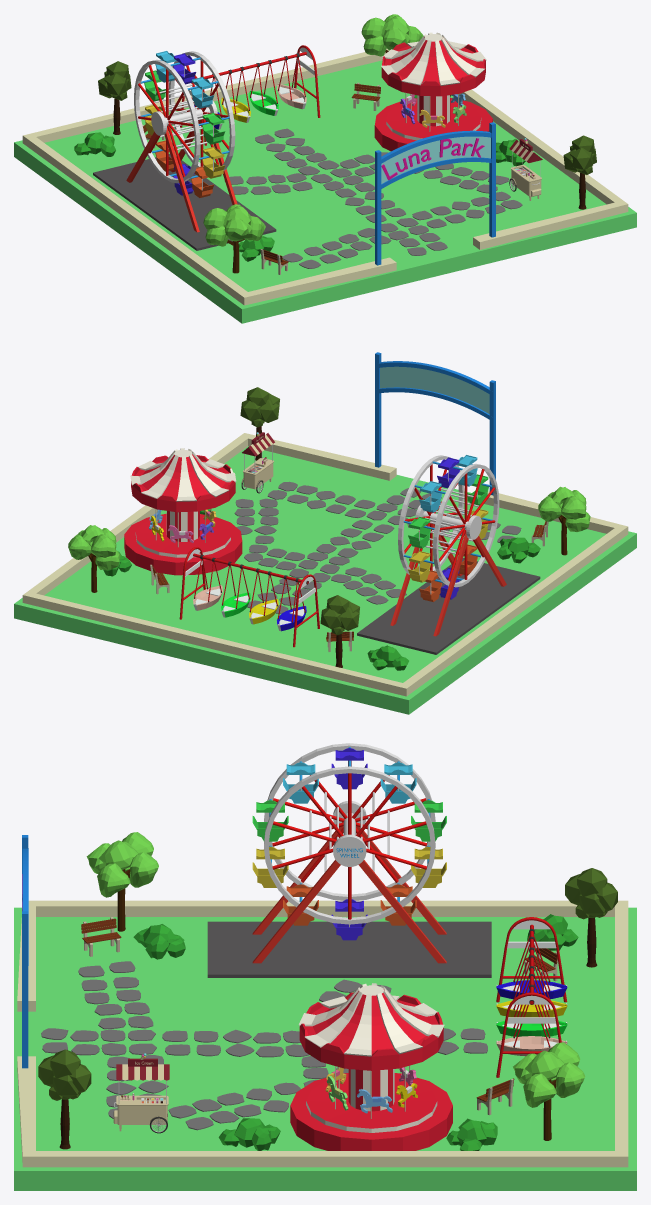
The model's file is asset4.glb.
The picture shows the model from 3 angles, top to bottom: view 1: azimuth 30°, elevation 25°; view 2: azimuth 150°, elevation 25°; view 3: azimuth 270°, elevation 25°; orthographic projection. The views are drawn at different scales.
Visible parts, largest first — view 1: Ground.Scene, SpinningWheel, Wall, Rocks, Carousel, Sign, LunaParkBoats, BigTree02, Bush, BigTree01, Smalltree01, SmallTree02 (+3 smaller); view 2: Ground.Scene, SpinningWheel, Wall, Carousel, Rocks, Sign, LunaParkBoats, Bush, BigTree02, BigTree01, SmallTree02, Smalltree01 (+1 smaller); view 3: Ground.Scene, SpinningWheel, Wall, Carousel, Rocks, LunaParkBoats, Bush, BigTree02, BigTree01, Smalltree01, SmallTree02, Sign (+4 smaller).
Boxes of the visible parts, bbox=[...] form: Ground.Scene: bbox=[14, 60, 636, 323]; SpinningWheel: bbox=[93, 51, 276, 250]; Wall: bbox=[22, 48, 628, 305]; Rocks: bbox=[224, 128, 522, 268]; Carousel: bbox=[374, 32, 492, 151]; Sign: bbox=[375, 122, 495, 265]; LunaParkBoats: bbox=[180, 45, 320, 145]; BigTree02: bbox=[203, 204, 265, 273]; Bush: bbox=[74, 95, 525, 261]; BigTree01: bbox=[361, 14, 423, 56]; Smalltree01: bbox=[563, 135, 596, 209]; SmallTree02: bbox=[98, 61, 131, 134]; Ground.Scene: bbox=[14, 446, 636, 714]; SpinningWheel: bbox=[357, 455, 540, 654]; Wall: bbox=[22, 433, 628, 696]; Carousel: bbox=[124, 448, 242, 575]; Rocks: bbox=[234, 481, 521, 613]; Sign: bbox=[375, 352, 495, 495]; LunaParkBoats: bbox=[179, 547, 319, 647]; Bush: bbox=[103, 509, 540, 670]; BigTree02: bbox=[538, 486, 590, 555]; BigTree01: bbox=[68, 525, 120, 592]; SmallTree02: bbox=[320, 595, 359, 667]; Smalltree01: bbox=[240, 387, 279, 460]; Ground.Scene: bbox=[14, 907, 636, 1190]; SpinningWheel: bbox=[207, 743, 491, 977]; Wall: bbox=[17, 900, 628, 1167]; Carousel: bbox=[290, 983, 452, 1150]; Rocks: bbox=[41, 961, 487, 1130]; LunaParkBoats: bbox=[496, 917, 567, 1077]; Bush: bbox=[133, 914, 578, 1150]; BigTree02: bbox=[86, 832, 158, 931]; BigTree01: bbox=[513, 1042, 585, 1140]; Smalltree01: bbox=[38, 1049, 91, 1149]; SmallTree02: bbox=[565, 868, 617, 967]; Sign: bbox=[22, 835, 28, 1068].
Size of the model in its own units: 76.59 by 29.78 by 76.59.
